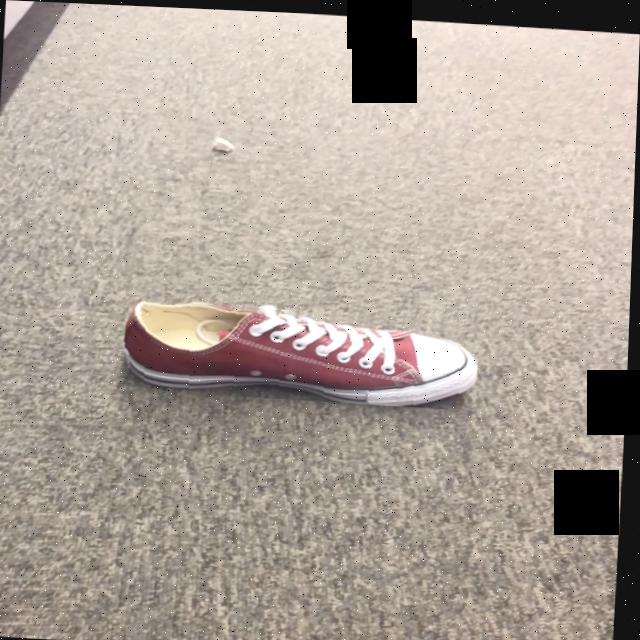shoe: (125, 300, 481, 403)
